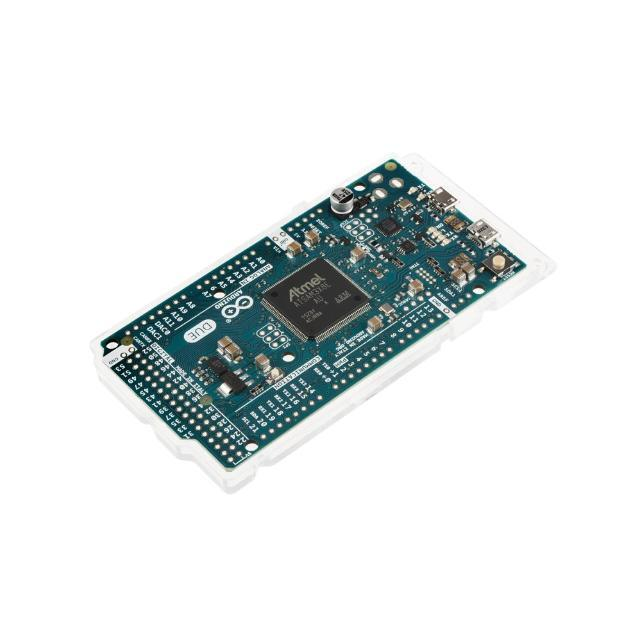Arduino-Due: (103, 161, 526, 470)
